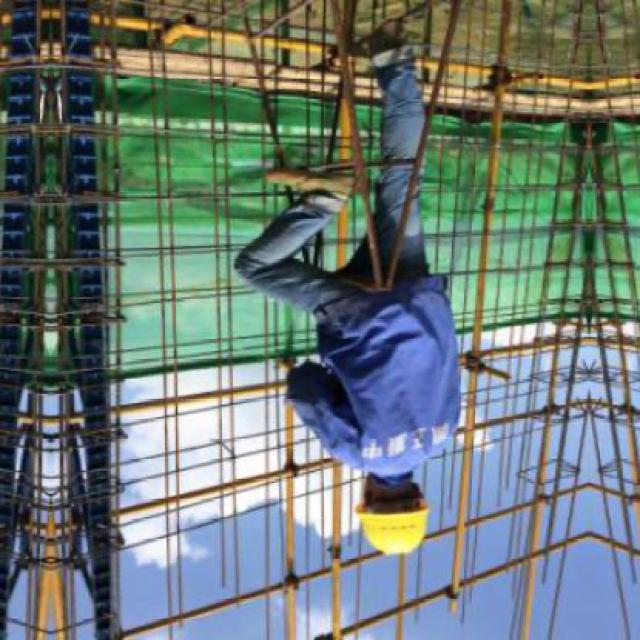con casco: (348, 482, 451, 558)
